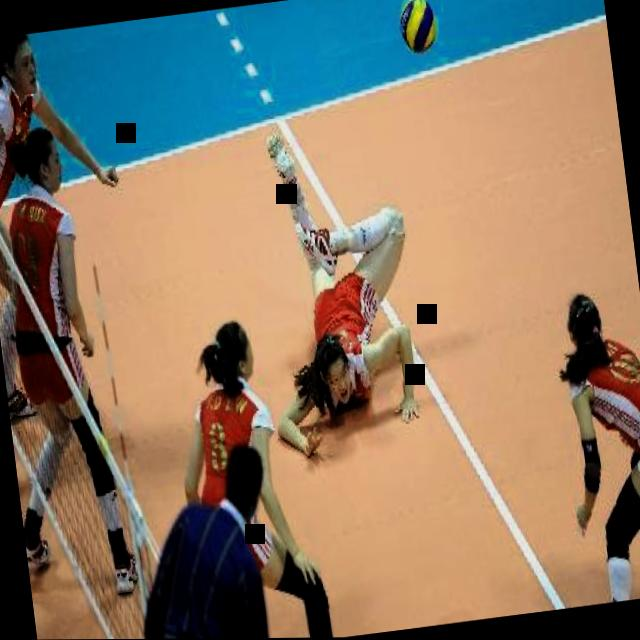Fall-Detected: (237, 101, 446, 471)
